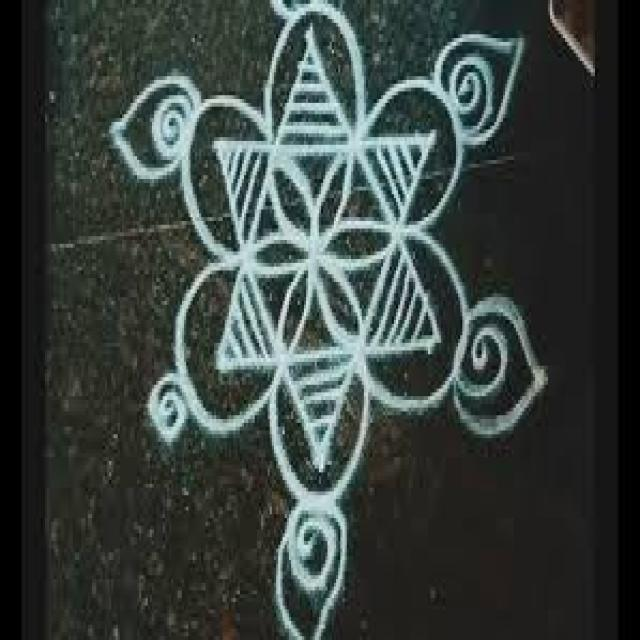rangoli: (112, 0, 552, 640)
